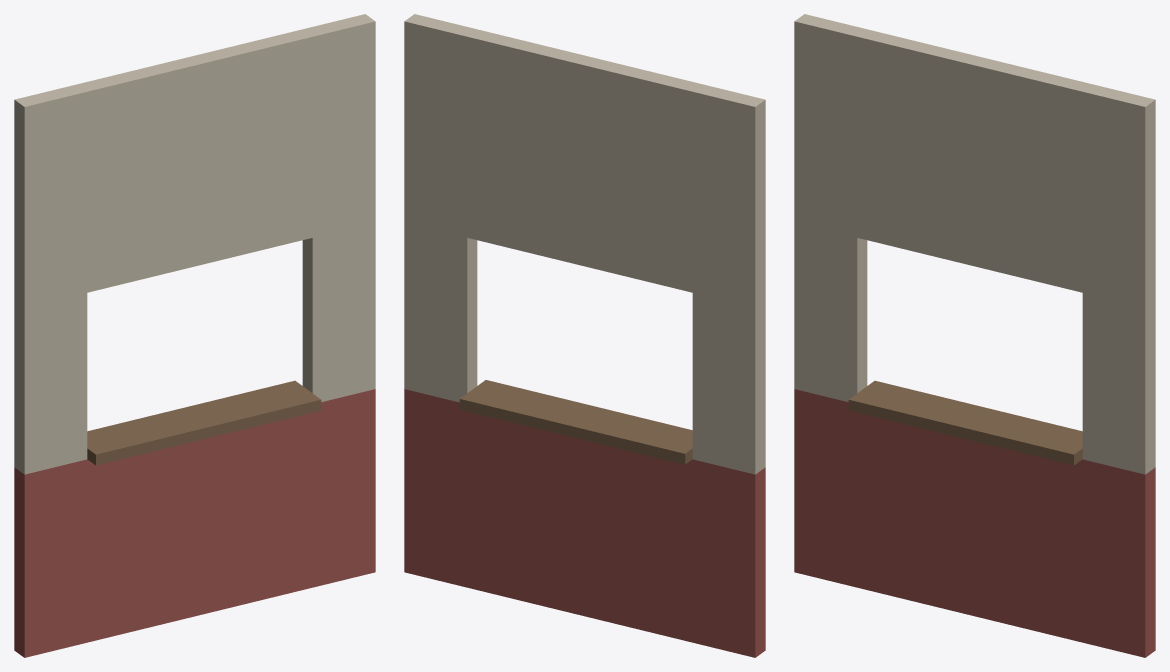
The model's file is Mesh_Wall2Colors_D3.fbx.
The picture shows the model from 3 angles, left to right: view 1: azimuth 30°, elevation 25°; view 2: azimuth 150°, elevation 25°; view 3: azimuth 330°, elevation 25°; orthographic projection.
Visible parts, largest first — view 1: Mesh_Wall2Colors_D3; view 2: Mesh_Wall2Colors_D3; view 3: Mesh_Wall2Colors_D3.
Boxes of the visible parts, x1=… form: Mesh_Wall2Colors_D3: x1=14, y1=14, x2=375, y2=657; Mesh_Wall2Colors_D3: x1=404, y1=14, x2=765, y2=657; Mesh_Wall2Colors_D3: x1=794, y1=14, x2=1155, y2=657.
Size of the model in its own units: 2 by 3 by 0.2574.
